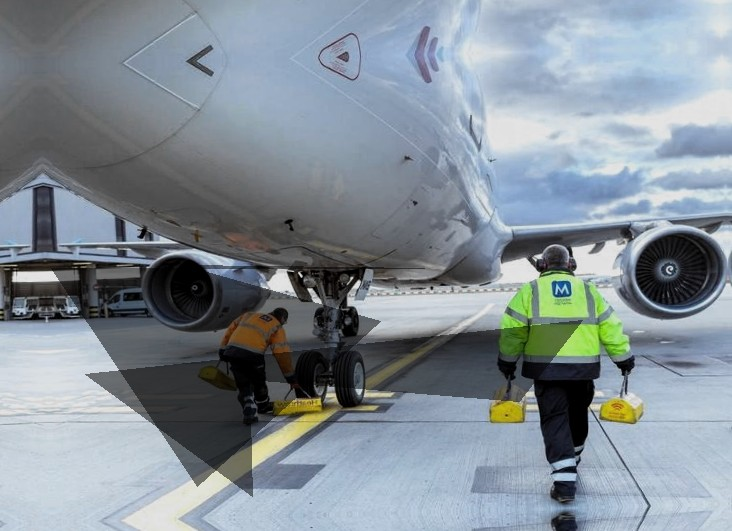chock: (596, 388, 649, 427), (486, 379, 527, 427), (197, 363, 242, 394), (271, 397, 322, 417)
wheel: (333, 349, 367, 408), (295, 350, 331, 404), (341, 306, 360, 336), (314, 306, 326, 324)
